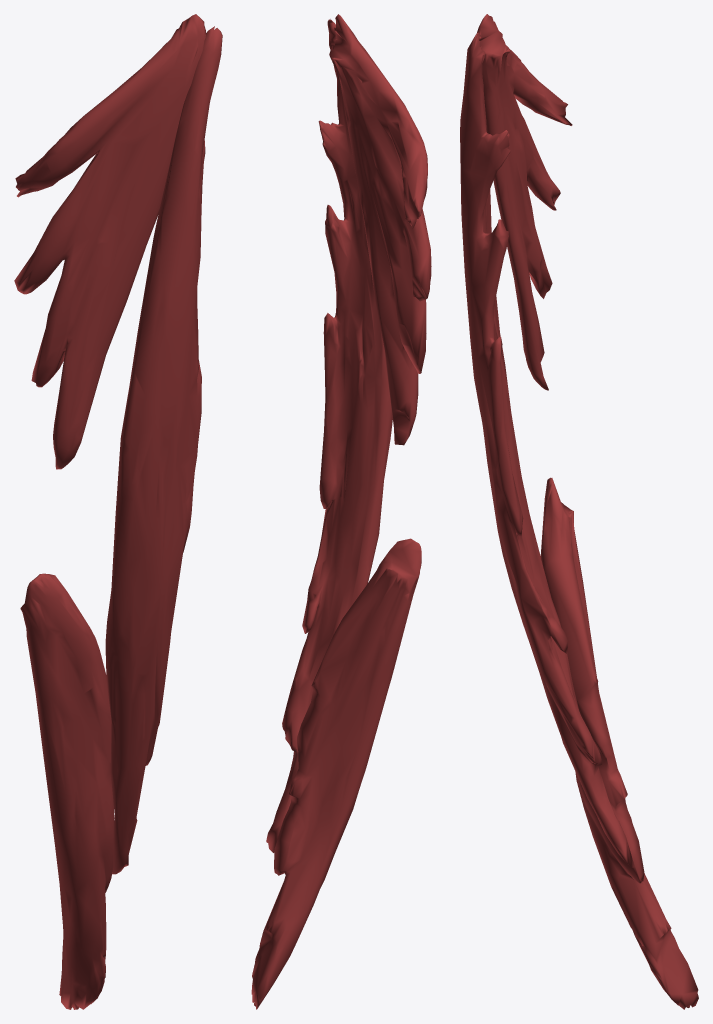
Rendered from longus-colli-muscle-r.glb.
3 renders of one model, left to right at view 1: azimuth 30°, elevation 25°; view 2: azimuth 150°, elevation 25°; view 3: azimuth 270°, elevation 25°, orthographic. The views are drawn at different scales.
Visible parts, largest first — view 1: Longus colli muscle.r; view 2: Longus colli muscle.r; view 3: Longus colli muscle.r.
Boxes of the visible parts, box(x1,y1,x2,y2) form: Longus colli muscle.r: box(14, 14, 222, 1009); Longus colli muscle.r: box(251, 14, 431, 1009); Longus colli muscle.r: box(460, 14, 698, 1009).
Size of the model in its own units: 0.0248 by 0.1574 by 0.0341.
